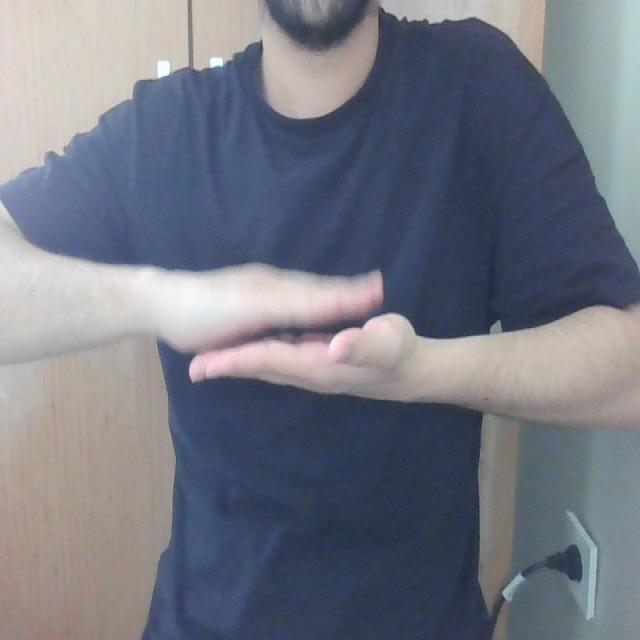Arkadas: (4, 256, 640, 405)
